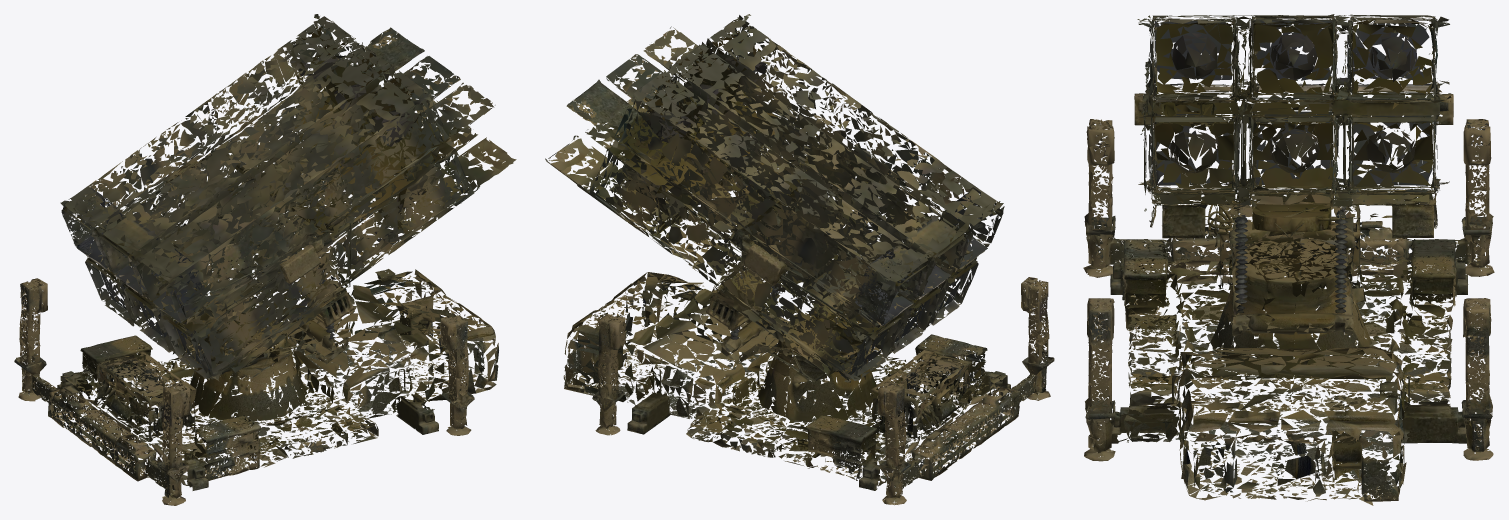
Rendered from nasams_battery.glb.
3 views of the same model, side by side, from view 1: azimuth 30°, elevation 25°; view 2: azimuth 150°, elevation 25°; view 3: azimuth 270°, elevation 25° (orthographic). The views are drawn at different scales.
Parts seen in each view (by area): view 1: tripo_part_21_tripo_part_21_material_0.004, tripo_part_21_tripo_part_21_material_0.005, tripo_part_28, tripo_part_21_tripo_part_21_material_0.006, tripo_part_21_tripo_part_21_material_0.001, tripo_part_21_tripo_part_21_material_0.002, tripo_part_21_tripo_part_21_material_0.003, tripo_part_21_tripo_part_21_material_0.007, tripo_part_27, tripo_part_21, tripo_part_23, tripo_part_21_tripo_part_21_material_0.009 (+19 smaller); view 2: tripo_part_21_tripo_part_21_material_0.010, tripo_part_21, tripo_part_28, tripo_part_21_tripo_part_21_material_0.009, tripo_part_21_tripo_part_21_material_0.003, tripo_part_21_tripo_part_21_material_0.001, tripo_part_21_tripo_part_21_material_0.002, tripo_part_27, tripo_part_21_tripo_part_21_material_0.007, tripo_part_21_tripo_part_21_material_0.004, tripo_part_21_tripo_part_21_material_0.006, tripo_part_29 (+21 smaller); view 3: tripo_part_28, tripo_part_27, tripo_part_23, tripo_part_21_tripo_part_21_material_0.002, tripo_part_21_tripo_part_21_material_0.005, tripo_part_21_tripo_part_21_material_0.010, tripo_part_21_tripo_part_21_material_0.006, tripo_part_23_tripo_part_23_material_0.001, tripo_part_21_tripo_part_21_material_0.008, tripo_part_21, tripo_part_1, tripo_part_52 (+24 smaller).
Part boxes in pixels (x1=…): tripo_part_21_tripo_part_21_material_0.004: x1=174, y1=56, x2=516, y2=369; tripo_part_21_tripo_part_21_material_0.005: x1=209, y1=72, x2=513, y2=362; tripo_part_28: x1=240, y1=269, x2=498, y2=418; tripo_part_21_tripo_part_21_material_0.006: x1=125, y1=70, x2=455, y2=379; tripo_part_21_tripo_part_21_material_0.001: x1=61, y1=80, x2=399, y2=377; tripo_part_21_tripo_part_21_material_0.002: x1=103, y1=47, x2=476, y2=380; tripo_part_21_tripo_part_21_material_0.003: x1=144, y1=16, x2=471, y2=313; tripo_part_21_tripo_part_21_material_0.007: x1=90, y1=76, x2=295, y2=358; tripo_part_27: x1=185, y1=309, x2=348, y2=421; tripo_part_21: x1=60, y1=20, x2=361, y2=326; tripo_part_23: x1=60, y1=355, x2=393, y2=485; tripo_part_21_tripo_part_21_material_0.009: x1=145, y1=41, x2=436, y2=276; tripo_part_21_tripo_part_21_material_0.010: x1=555, y1=75, x2=877, y2=371; tripo_part_21: x1=595, y1=80, x2=933, y2=382; tripo_part_28: x1=563, y1=272, x2=796, y2=419; tripo_part_21_tripo_part_21_material_0.009: x1=549, y1=67, x2=901, y2=314; tripo_part_21_tripo_part_21_material_0.003: x1=587, y1=44, x2=947, y2=311; tripo_part_21_tripo_part_21_material_0.001: x1=605, y1=92, x2=1004, y2=364; tripo_part_21_tripo_part_21_material_0.002: x1=590, y1=44, x2=1003, y2=297; tripo_part_27: x1=713, y1=306, x2=903, y2=422; tripo_part_21_tripo_part_21_material_0.007: x1=716, y1=118, x2=973, y2=340; tripo_part_21_tripo_part_21_material_0.004: x1=591, y1=21, x2=969, y2=290; tripo_part_21_tripo_part_21_material_0.006: x1=674, y1=38, x2=1003, y2=329; tripo_part_29: x1=869, y1=350, x2=971, y2=451; tripo_part_28: x1=1119, y1=346, x2=1406, y2=505; tripo_part_27: x1=1210, y1=207, x2=1372, y2=381; tripo_part_23: x1=1128, y1=244, x2=1455, y2=446; tripo_part_21_tripo_part_21_material_0.002: x1=1138, y1=14, x2=1334, y2=226; tripo_part_21_tripo_part_21_material_0.005: x1=1137, y1=18, x2=1236, y2=211; tripo_part_21_tripo_part_21_material_0.010: x1=1349, y1=16, x2=1451, y2=205; tripo_part_21_tripo_part_21_material_0.006: x1=1150, y1=16, x2=1305, y2=246; tripo_part_23_tripo_part_23_material_0.001: x1=1141, y1=257, x2=1451, y2=439; tripo_part_21_tripo_part_21_material_0.008: x1=1146, y1=15, x2=1434, y2=229; tripo_part_21: x1=1330, y1=14, x2=1449, y2=227; tripo_part_1: x1=1083, y1=119, x2=1171, y2=277; tripo_part_52: x1=1409, y1=119, x2=1494, y2=276.
Bounding box in the file's own units: 0.9929 × 0.8305 × 0.7088.
54 materials, 54 textured.
